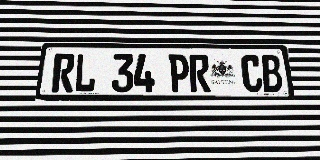3: (112, 54, 133, 92)
4: (133, 54, 154, 92)
B: (260, 55, 284, 92)
C: (240, 55, 263, 92)
L: (74, 53, 97, 92)
P: (169, 54, 190, 92)
R: (51, 53, 76, 92), (189, 54, 211, 92)
